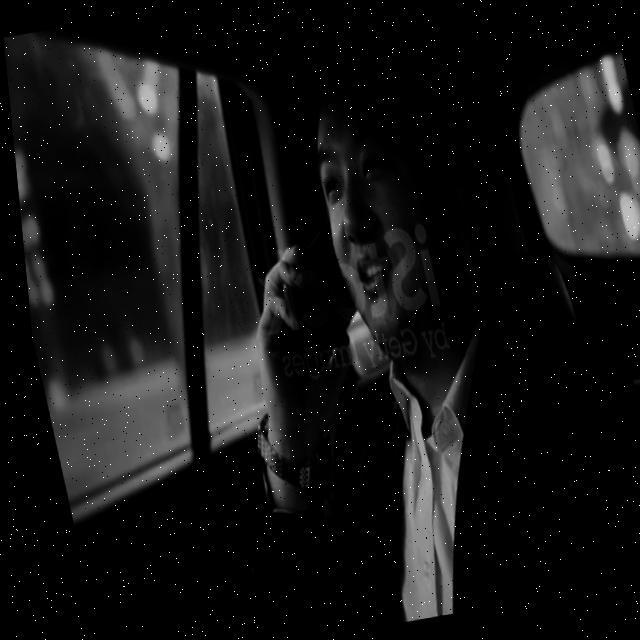PhoneCall: (262, 222, 357, 382)
